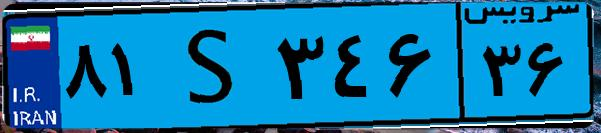1: (110, 28, 158, 98)
3: (270, 28, 330, 110), (475, 38, 525, 113)
4: (330, 28, 385, 110)
6: (385, 28, 445, 110), (525, 38, 570, 115)
8: (57, 26, 110, 100)
S: (158, 12, 270, 120)
